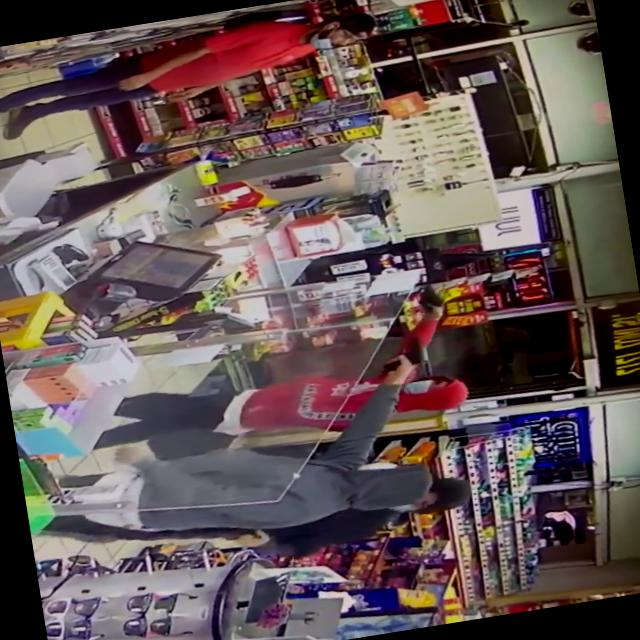handgun: (368, 331, 434, 386), (396, 278, 451, 320)
